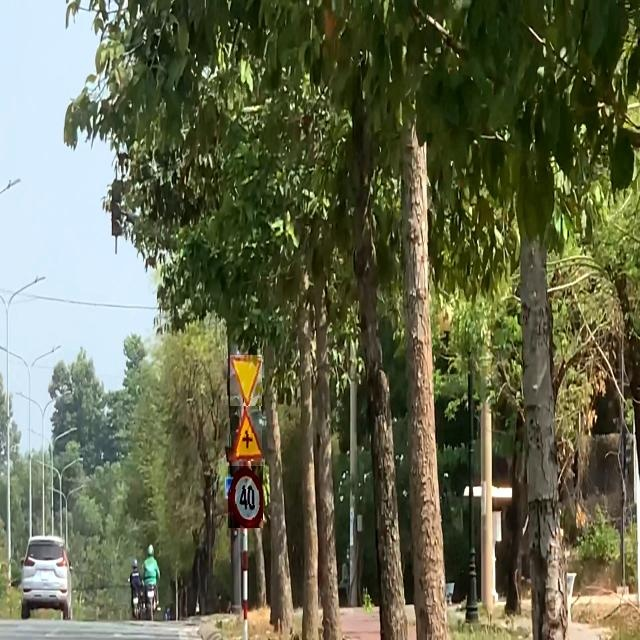bien_nguy_hiem: (228, 466, 263, 528), (228, 409, 262, 462), (230, 355, 262, 406)
